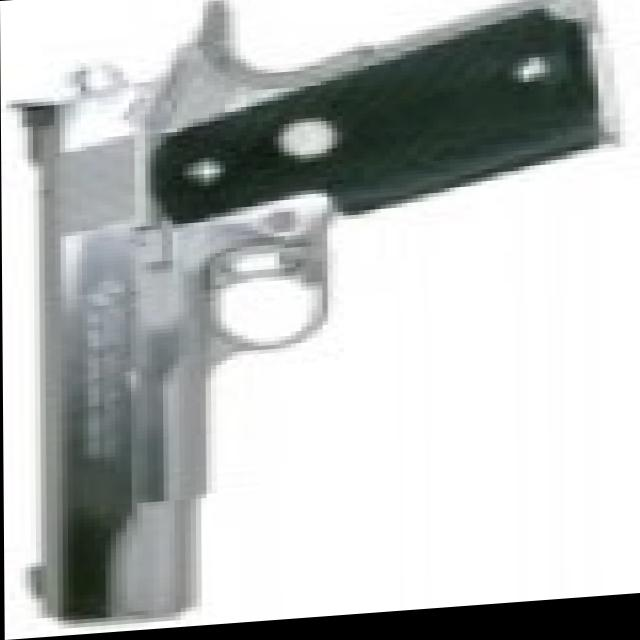handgun: (5, 0, 607, 624)
